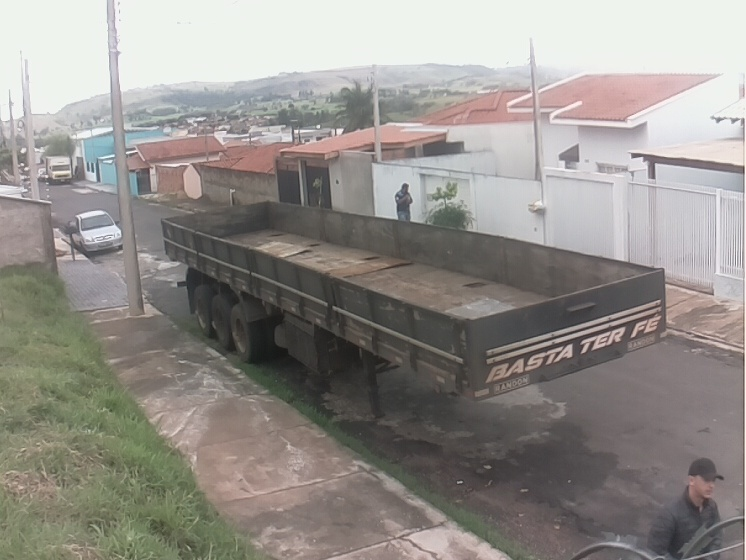person: (647, 455, 728, 560), (393, 182, 414, 222)
